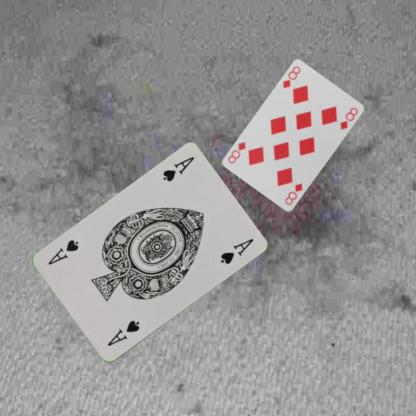8d: (280, 64, 302, 90), (282, 181, 304, 206)
As: (104, 318, 141, 348), (160, 154, 196, 184)
